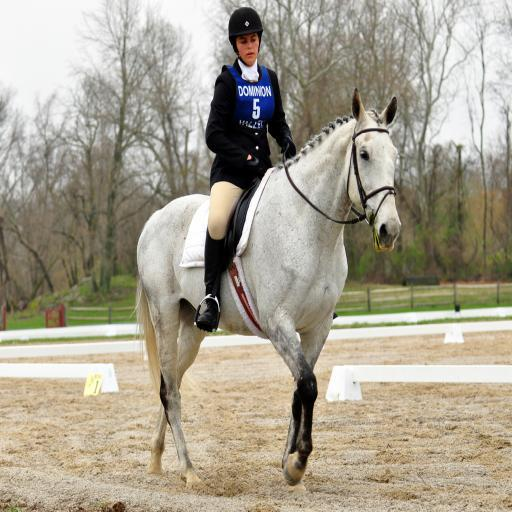Horse: (127, 88, 402, 492)
